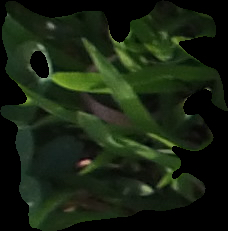grass: (1, 1, 227, 230)
